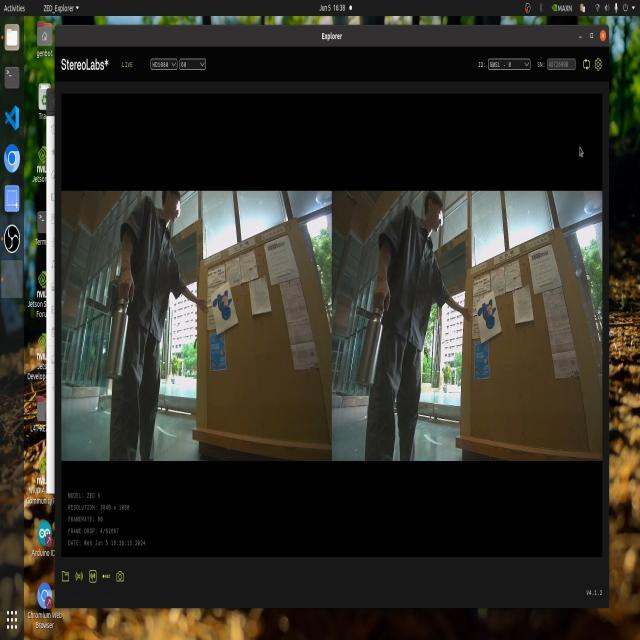blue: (473, 289, 504, 344), (211, 282, 238, 329)
